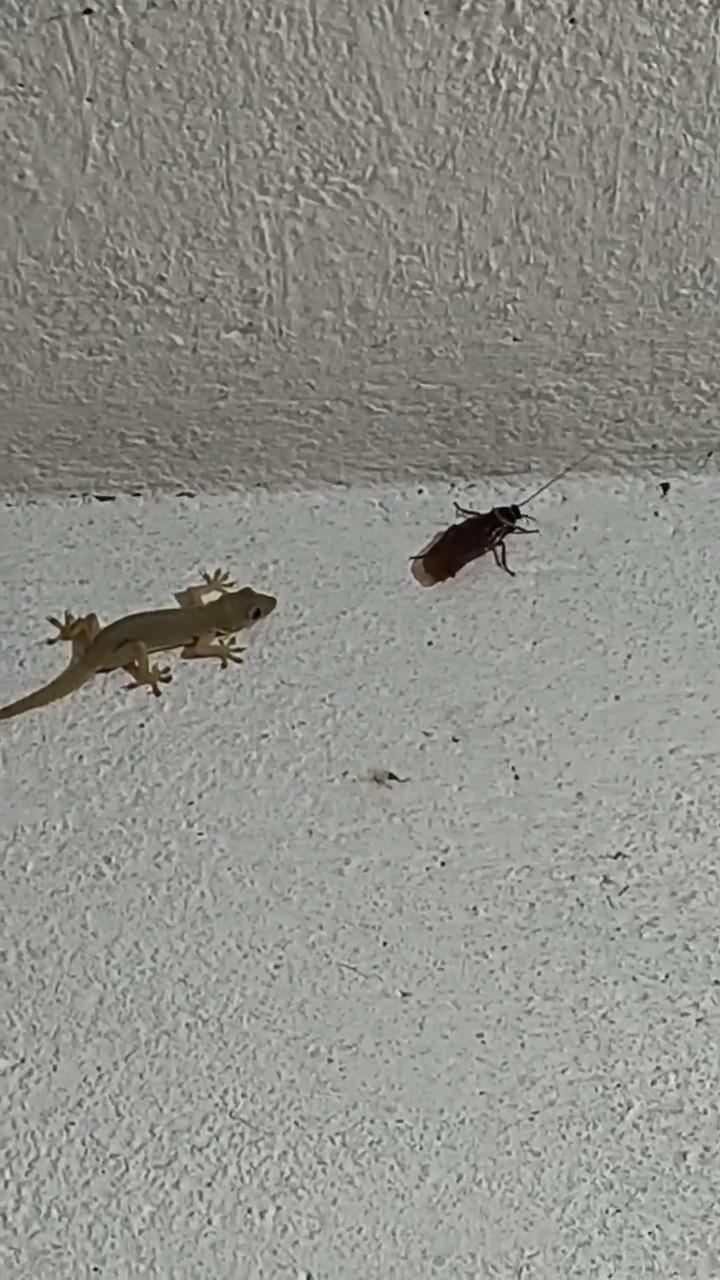cockroach: (386, 486, 557, 596)
lizard: (0, 548, 293, 730)
